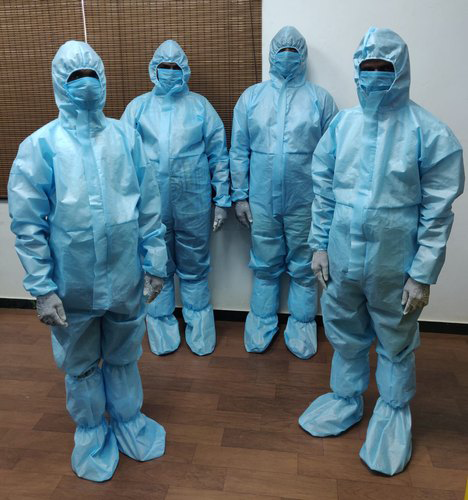Coverall: (316, 26, 462, 404), (10, 38, 154, 420), (232, 31, 329, 316), (132, 32, 222, 307)
Gloves: (33, 282, 69, 331), (399, 270, 432, 321), (309, 243, 335, 289), (138, 268, 165, 306), (233, 193, 253, 231), (210, 197, 228, 236)
with_mask: (357, 62, 394, 105), (65, 71, 104, 108), (154, 61, 186, 93), (272, 44, 303, 77)
